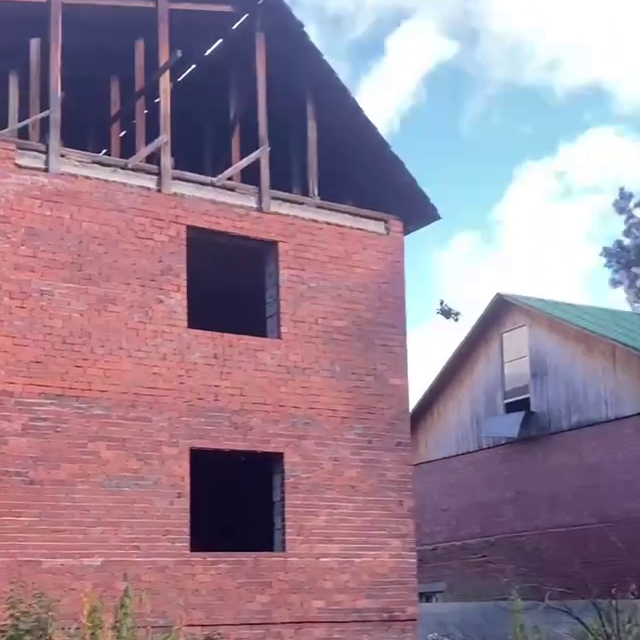drone: (435, 298, 463, 323)
